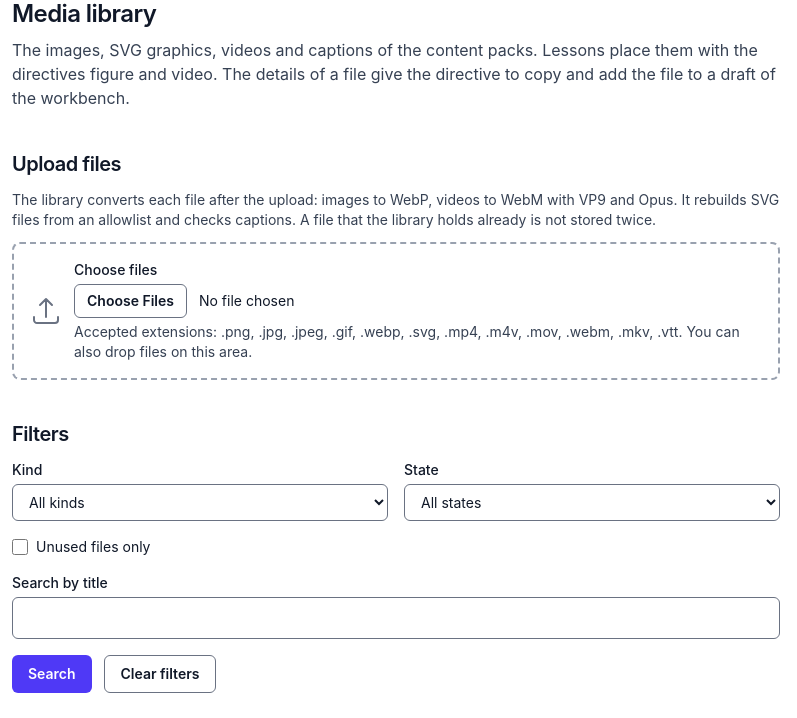
Test: the cards › states an empty library and a filter without match
The width and height of the screenshot is (797, 718).
What coordinates should you click on to do the following:
click the checkbox labelled "Unused files only"
I would click on:
 (20, 547)
Its box is [12,539,28,555].
(page scrolled)
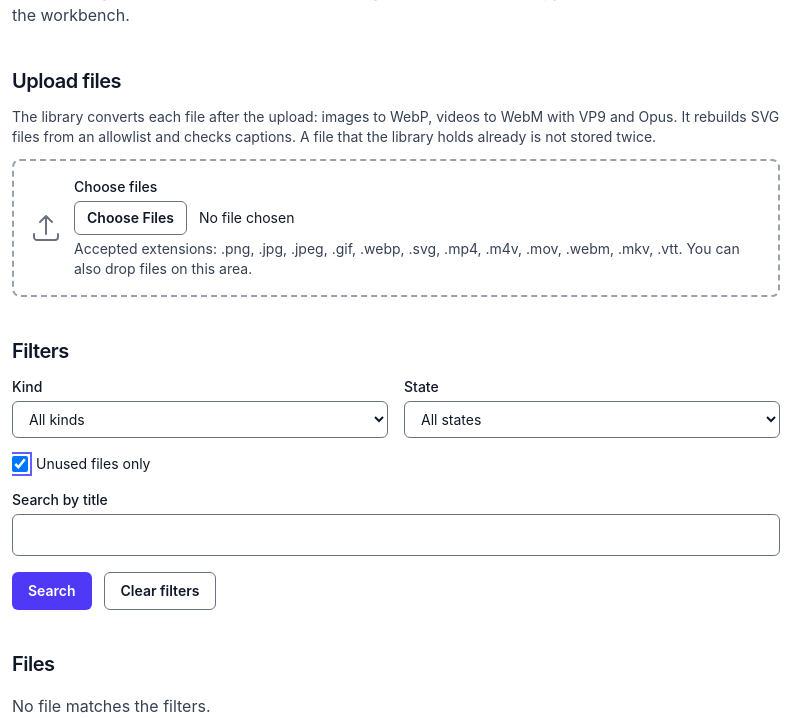
expect the text "No file matches the filters." is shown: met, box [12,696,210,716]
